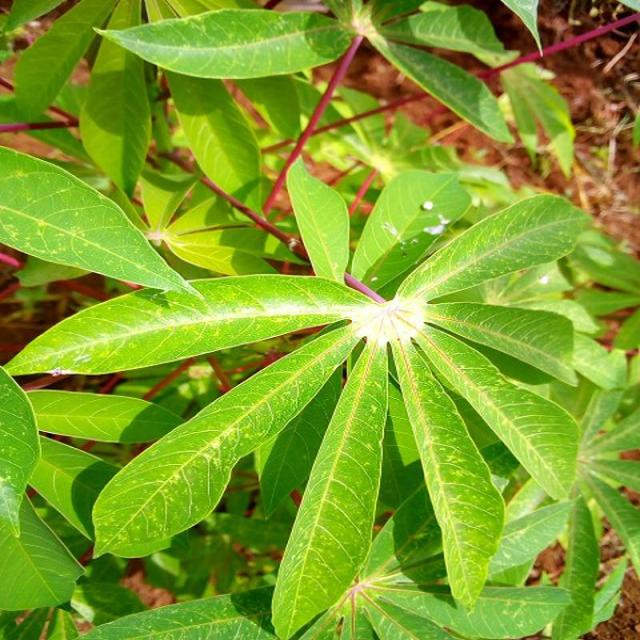cassava leaf: (18, 154, 604, 636)
